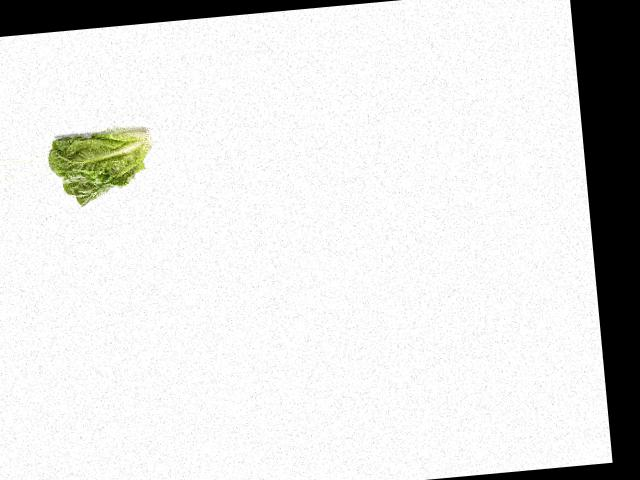lettuce: (44, 111, 162, 209)
